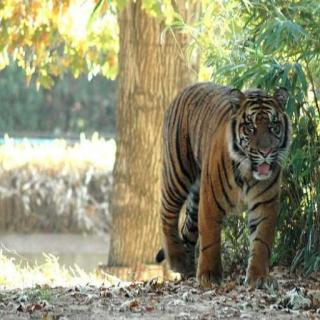Tiger: (156, 79, 294, 292)
